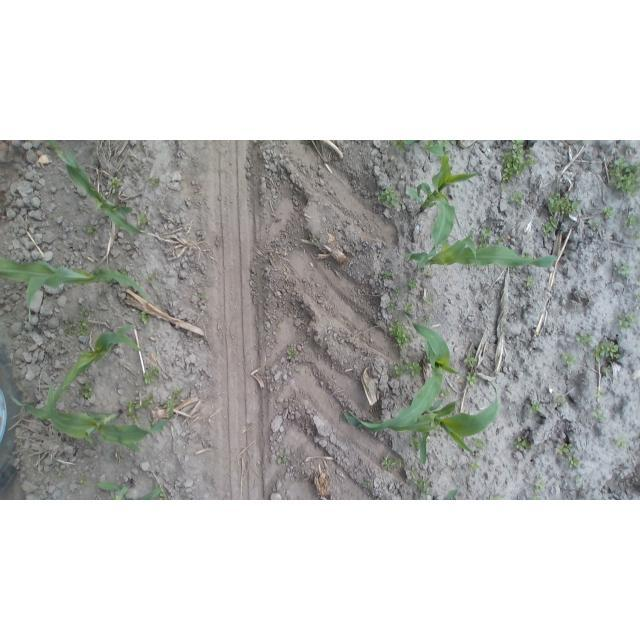Maize: (343, 382, 502, 466), (10, 386, 179, 454), (368, 314, 462, 431), (1, 255, 151, 322), (46, 141, 147, 239), (405, 145, 479, 271), (48, 326, 144, 423), (404, 216, 560, 272), (98, 477, 169, 499), (430, 489, 458, 500), (400, 141, 423, 148)
Weeds: (499, 141, 537, 186), (608, 156, 640, 196), (546, 192, 581, 216), (388, 317, 412, 351), (588, 341, 622, 361), (389, 358, 423, 378), (63, 316, 90, 336), (378, 186, 401, 209), (412, 475, 432, 498), (615, 311, 638, 331), (380, 456, 405, 471), (614, 260, 633, 279), (512, 436, 533, 453), (143, 364, 160, 384), (125, 400, 141, 421), (476, 227, 492, 248), (533, 473, 545, 500), (543, 215, 558, 235), (622, 211, 638, 229), (509, 191, 527, 206), (575, 331, 593, 346), (561, 350, 577, 366), (108, 177, 123, 194), (592, 408, 609, 423), (555, 443, 574, 456), (437, 140, 457, 152), (464, 352, 479, 367), (80, 383, 94, 399), (136, 310, 150, 325), (473, 437, 488, 451), (392, 141, 414, 150), (528, 400, 541, 415), (142, 394, 157, 407), (603, 205, 616, 220), (408, 434, 420, 450), (567, 455, 580, 469), (554, 393, 567, 407), (137, 212, 149, 227), (466, 371, 478, 386), (278, 449, 289, 465), (146, 177, 162, 188), (601, 364, 614, 377), (469, 461, 482, 474), (588, 218, 601, 231), (406, 276, 418, 290), (614, 438, 628, 450), (286, 347, 298, 360), (363, 475, 374, 489), (524, 275, 535, 288), (404, 303, 415, 314), (387, 302, 398, 313), (380, 269, 392, 279), (441, 386, 451, 398), (520, 250, 532, 260), (308, 232, 317, 244), (86, 225, 98, 234), (170, 388, 183, 396), (595, 389, 605, 399), (301, 142, 312, 151), (78, 475, 87, 486), (626, 141, 635, 151), (496, 236, 505, 246), (424, 295, 433, 305), (423, 268, 433, 277), (423, 314, 432, 323), (119, 268, 129, 276), (394, 286, 402, 296), (54, 470, 64, 478), (410, 467, 418, 477), (163, 399, 170, 410), (79, 308, 90, 315), (274, 319, 282, 328), (150, 422, 159, 430), (311, 273, 318, 283), (425, 141, 435, 148), (500, 182, 508, 190), (146, 274, 154, 282), (489, 495, 505, 499), (197, 292, 206, 299), (632, 232, 639, 241), (633, 293, 640, 301), (437, 428, 444, 436), (158, 492, 165, 500), (575, 476, 582, 483), (165, 290, 171, 298)
